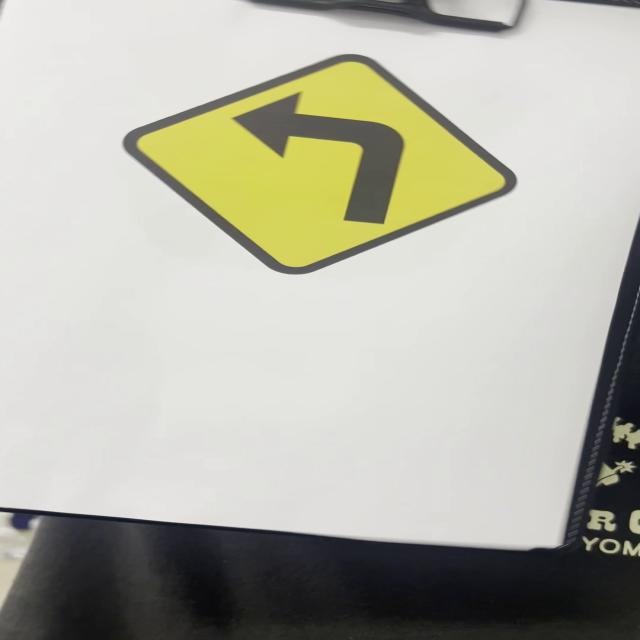left: (132, 52, 515, 272)
